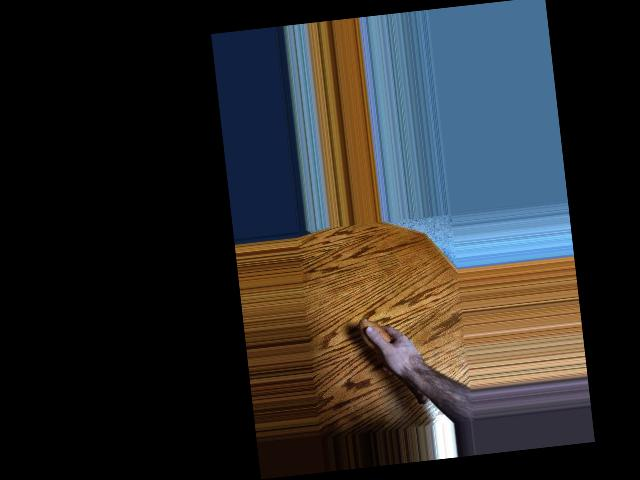sweet_potato: (358, 311, 430, 412)
